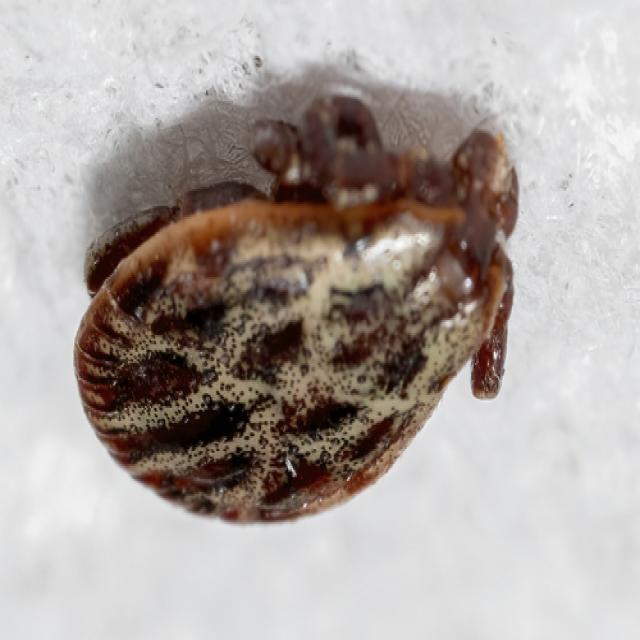Dermacentor Reticulatus-M: (72, 94, 520, 526)
